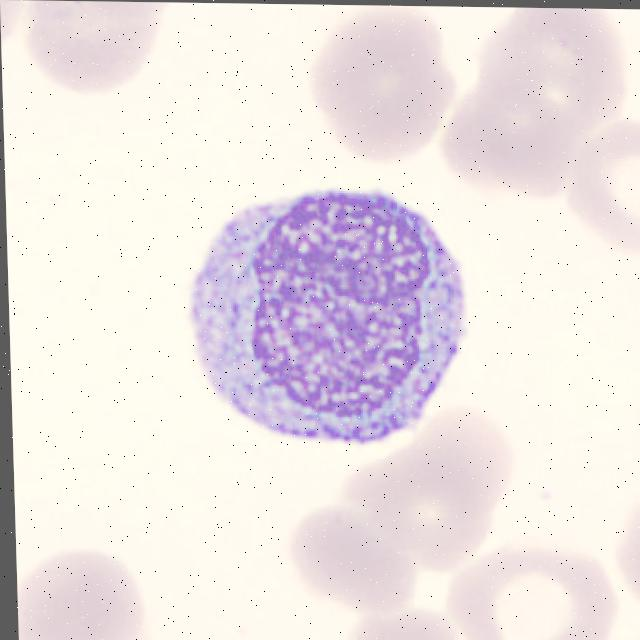monocyte: (182, 184, 491, 474)
rbc: (345, 455, 499, 569), (326, 49, 457, 176), (296, 4, 439, 117), (449, 545, 608, 640), (489, 81, 613, 200), (505, 8, 625, 125), (293, 513, 413, 614), (444, 91, 552, 202), (462, 18, 575, 118), (16, 551, 141, 640), (401, 409, 511, 504), (34, 13, 147, 100), (563, 124, 640, 245), (25, 1, 201, 34), (345, 612, 464, 640), (617, 503, 640, 612), (0, 0, 36, 51)
